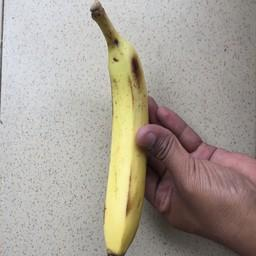Banana Ripe: (79, 1, 160, 256)
